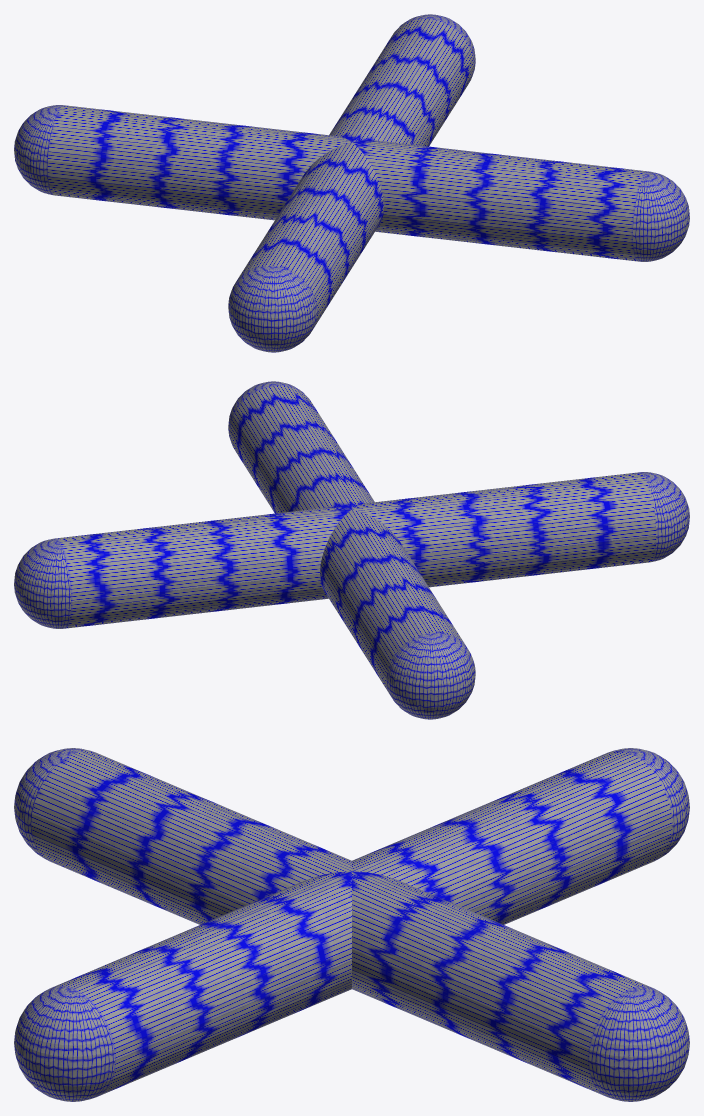
The picture shows the model from 3 angles, top to bottom: view 1: azimuth 30°, elevation 25°; view 2: azimuth 150°, elevation 25°; view 3: azimuth 270°, elevation 25°; orthographic projection. The views are drawn at different scales.
Parts seen in each view (by area): view 1: Cylinder.001, Cylinder, Sphere.001, Sphere.003, Sphere.002; view 2: Cylinder, Cylinder.001, Sphere.002, Sphere, Sphere.001; view 3: Cylinder, Cylinder.001, Sphere, Sphere.003, Sphere.001, Sphere.002.
Boxes of the visible parts, bbox=[...] form: Cylinder.001: bbox=[47, 105, 648, 261]; Cylinder: bbox=[238, 18, 474, 327]; Sphere.001: bbox=[228, 265, 317, 352]; Sphere.003: bbox=[633, 171, 689, 261]; Sphere.002: bbox=[14, 105, 63, 195]; Cylinder: bbox=[55, 472, 656, 628]; Cylinder.001: bbox=[229, 385, 465, 694]; Sphere.002: bbox=[386, 632, 475, 719]; Sphere: bbox=[14, 538, 70, 628]; Sphere.001: bbox=[640, 472, 689, 562]; Cylinder: bbox=[31, 751, 652, 1096]; Cylinder.001: bbox=[51, 751, 672, 1096]; Sphere: bbox=[589, 986, 689, 1101]; Sphere.003: bbox=[14, 986, 114, 1101]; Sphere.001: bbox=[14, 748, 94, 859]; Sphere.002: bbox=[609, 748, 689, 859].
Bounding box in the file's own units: 1.71 × 0.3 × 1.71.
1 material, 1 textured.
